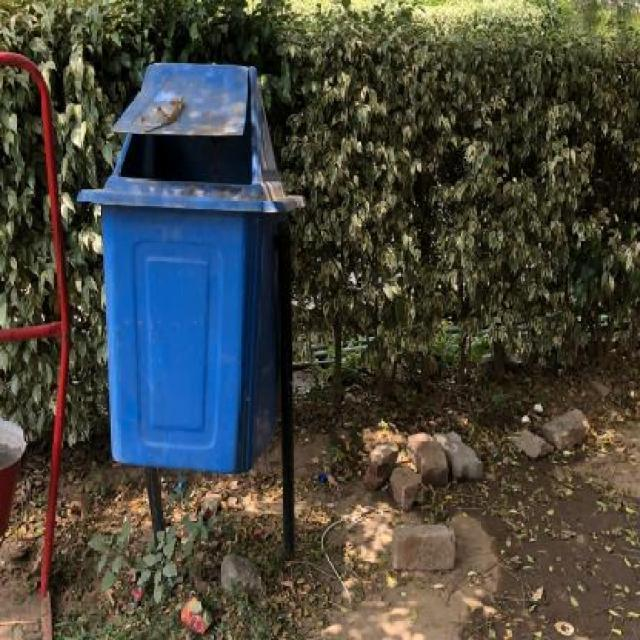garbage: (177, 586, 220, 639), (554, 616, 577, 640), (316, 471, 333, 488)
